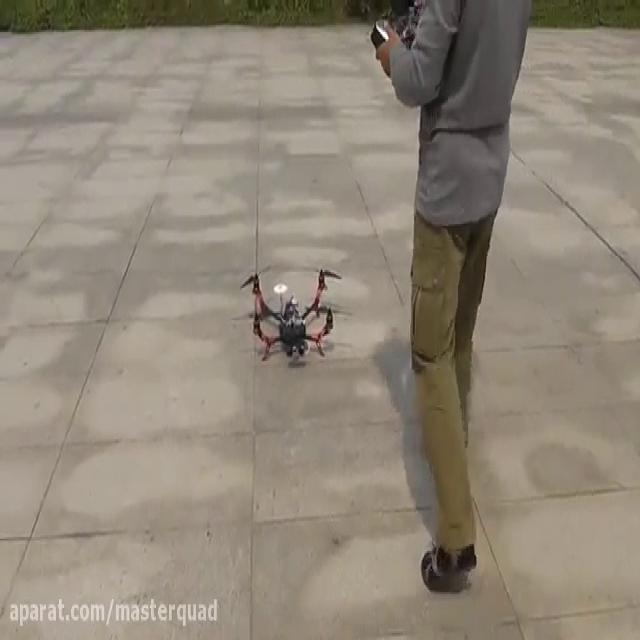drone: (237, 261, 352, 368)
